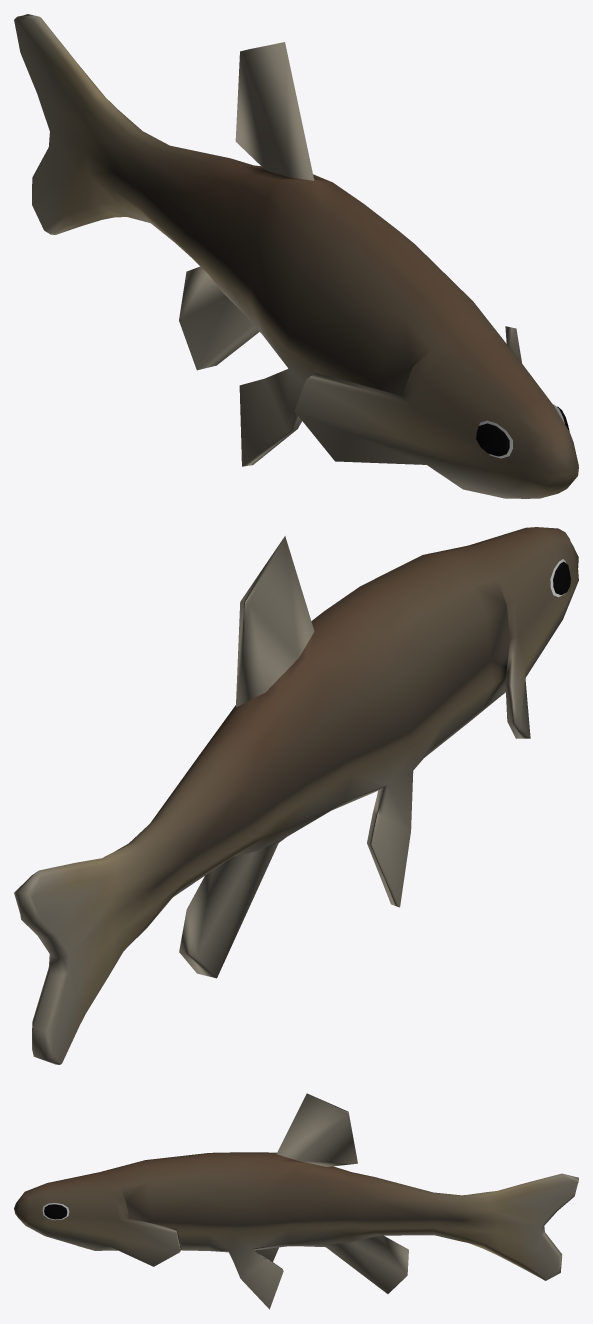
Rendered from underwater-fish-minnow_v1.glb.
3 views of the same model, one above another, from view 1: azimuth 30°, elevation 25°; view 2: azimuth 150°, elevation 25°; view 3: azimuth 270°, elevation 25° (orthographic). The views are drawn at different scales.
Visible parts, largest first — view 1: Minnow; view 2: Minnow; view 3: Minnow.
Boxes of the visible parts, bbox=[...] form: Minnow: bbox=[14, 14, 578, 498]; Minnow: bbox=[14, 527, 578, 1064]; Minnow: bbox=[14, 1093, 578, 1309].
Size of the model in its own units: 0.024 by 0.0388 by 0.1.
